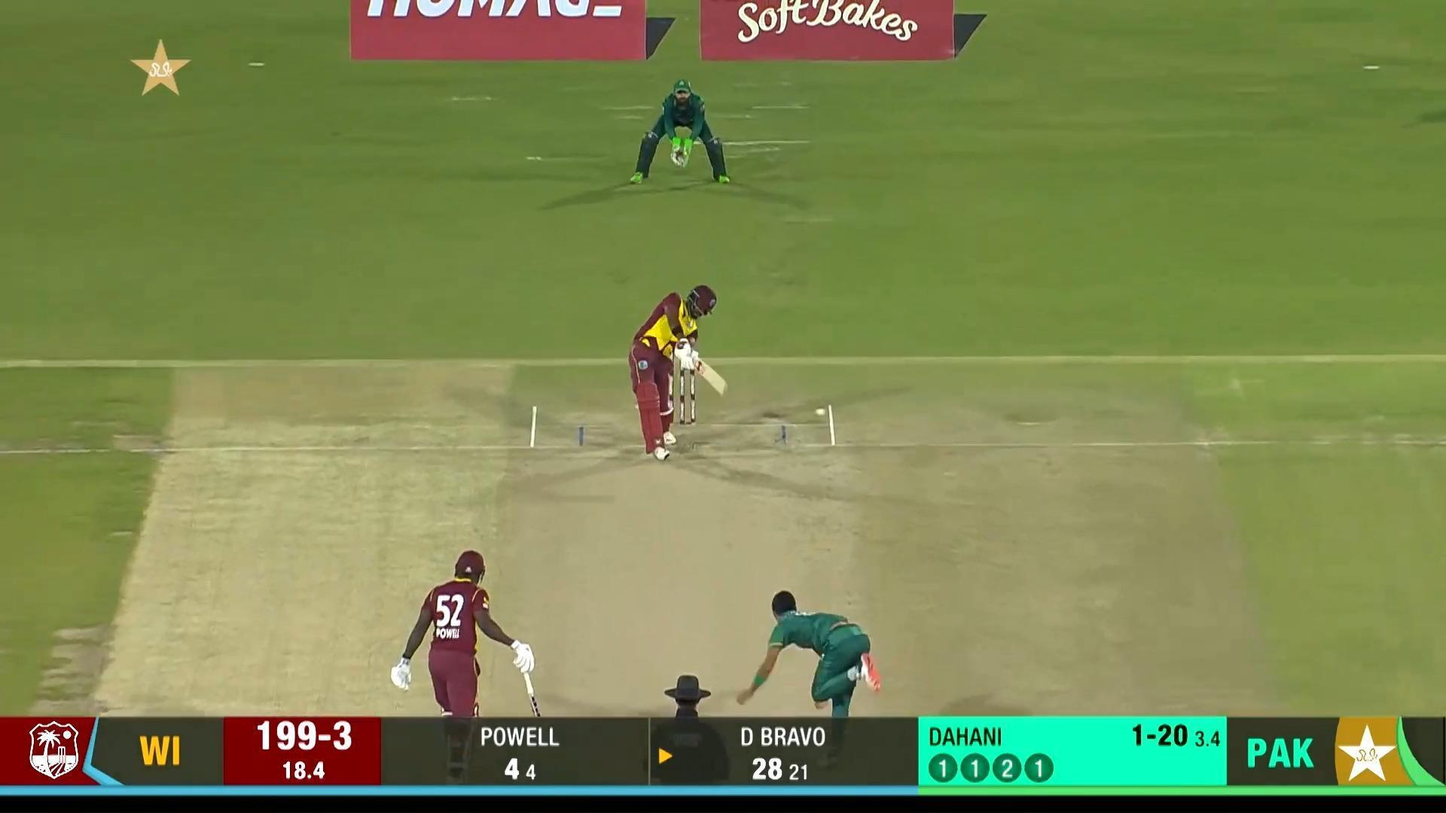BM 1: (628, 284, 728, 461)
BO: (735, 591, 882, 716)
